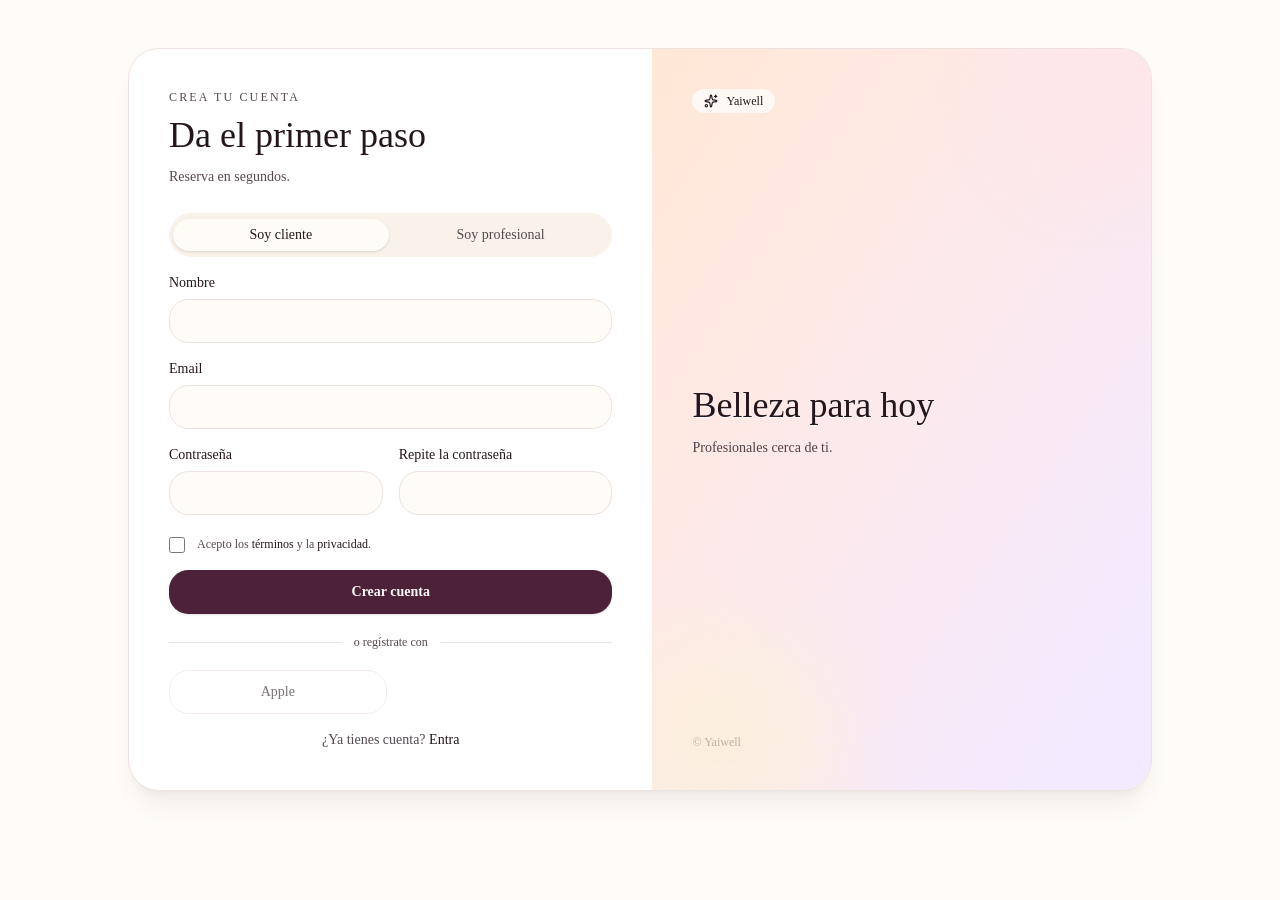
it: SignUpForm › muestra error si las contraseñas no coinciden
Type "Jorge" into the field labelled "Nombre".
click(391, 321); type("Jorge")  # box [169,299,612,343]
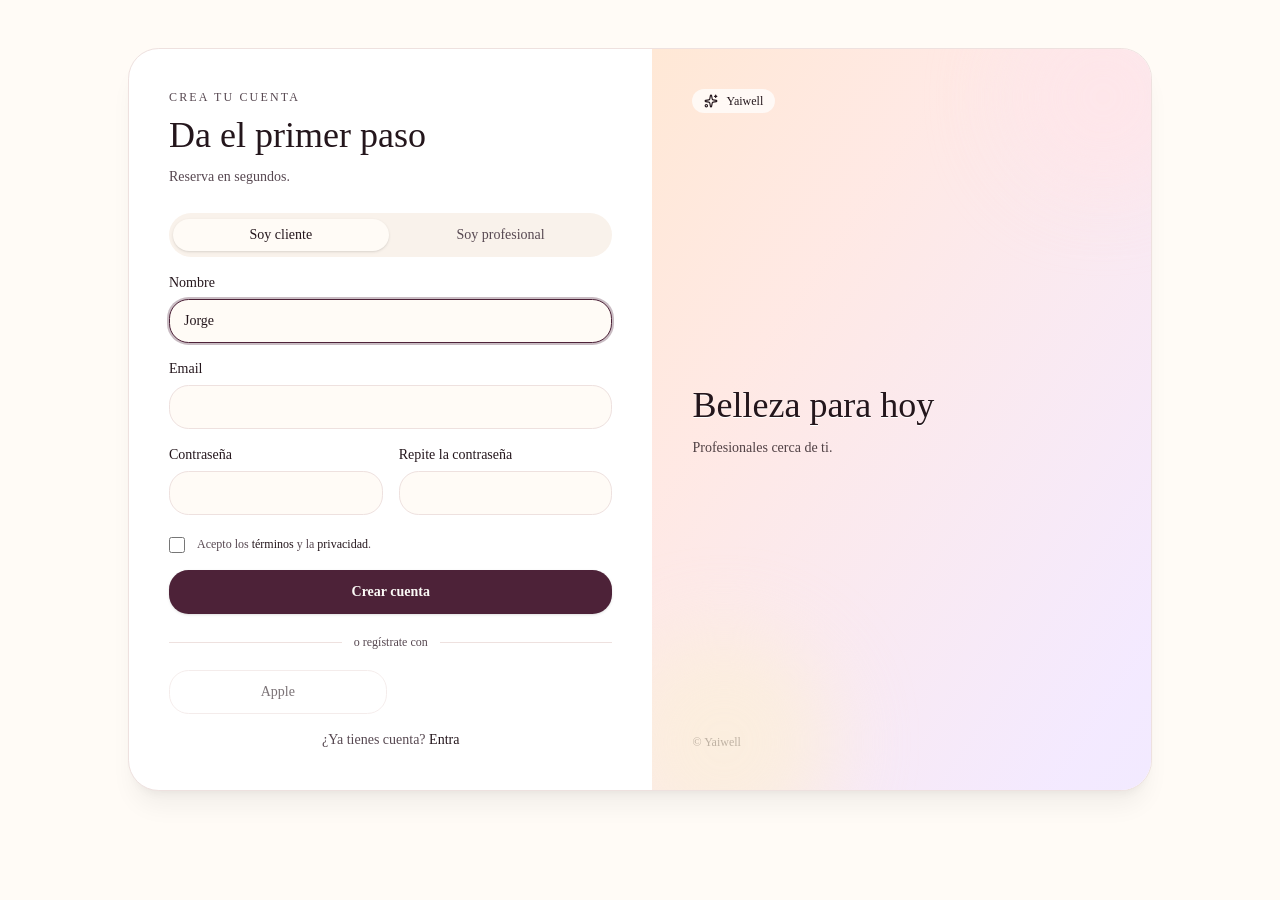
Type "jorge@yaiwell.com" into the field labelled "Email".
click(391, 407); type("jorge@yaiwell.com")  # box [169,385,612,429]
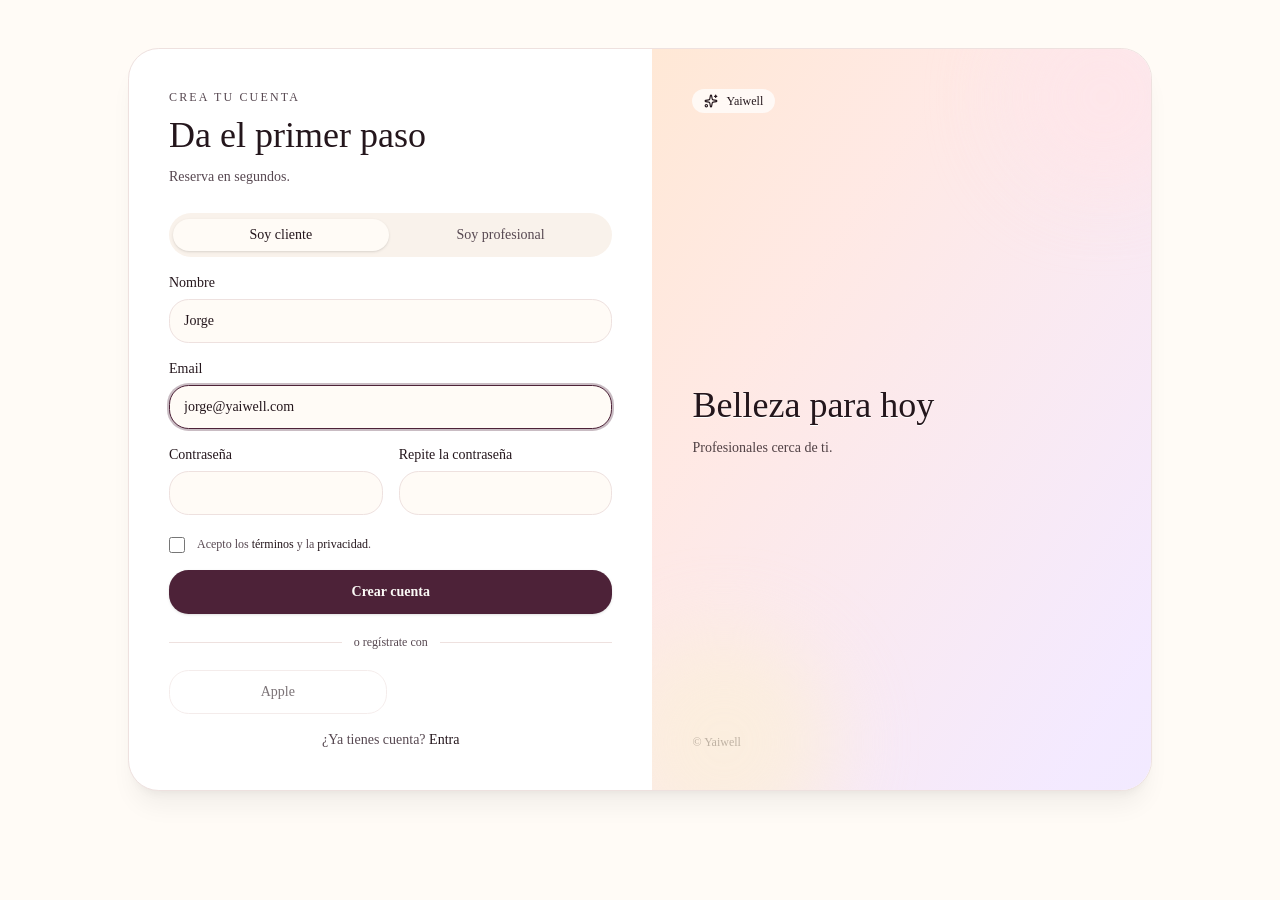
Type "unaclavefuerte" into the password field labelled "Contraseña".
click(276, 493); type("unaclavefuerte")  # box [169,471,383,515]
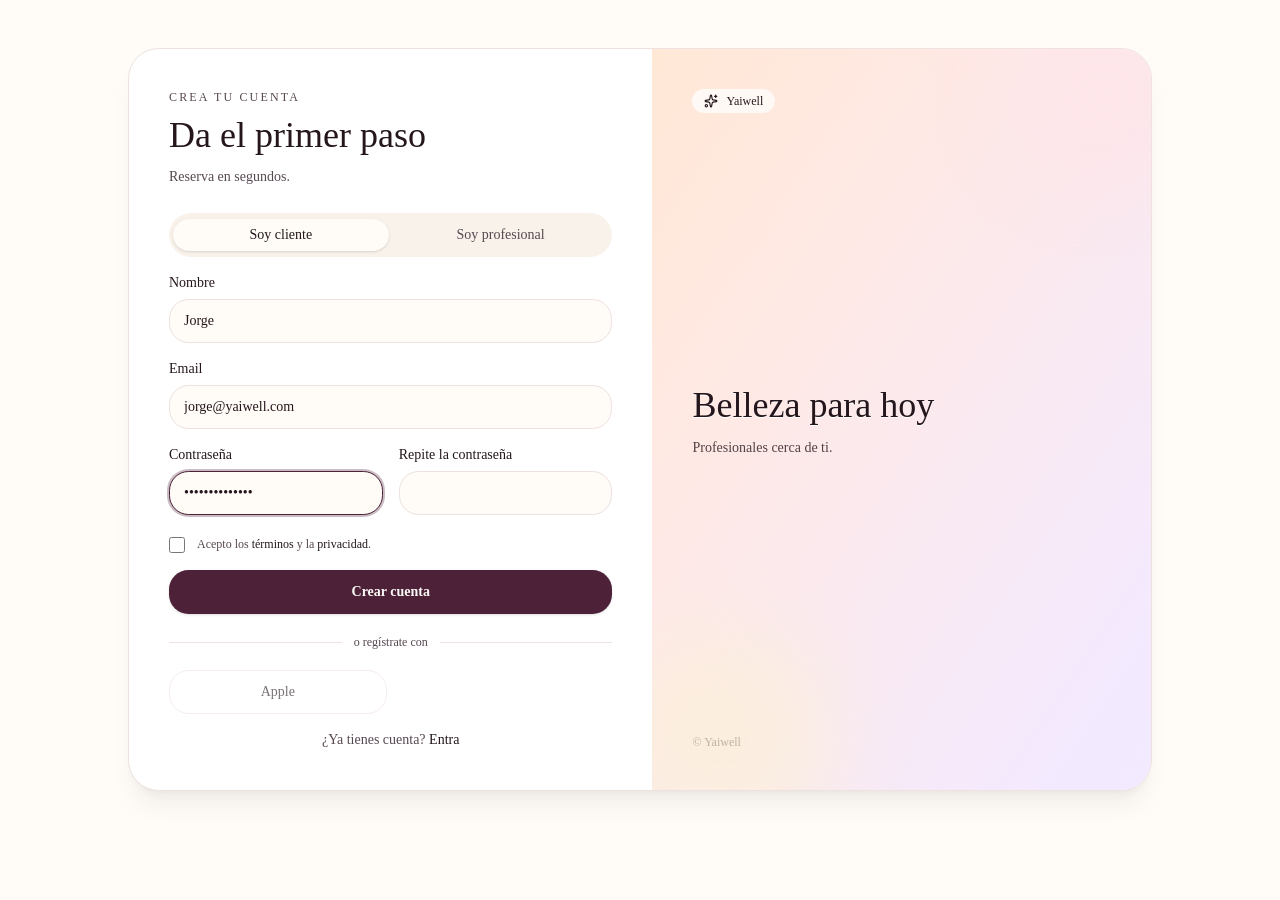
Type "otraclavefuerte" into the password field labelled "Repite la contraseña".
click(506, 493); type("otraclavefuerte")  # box [399,471,612,515]
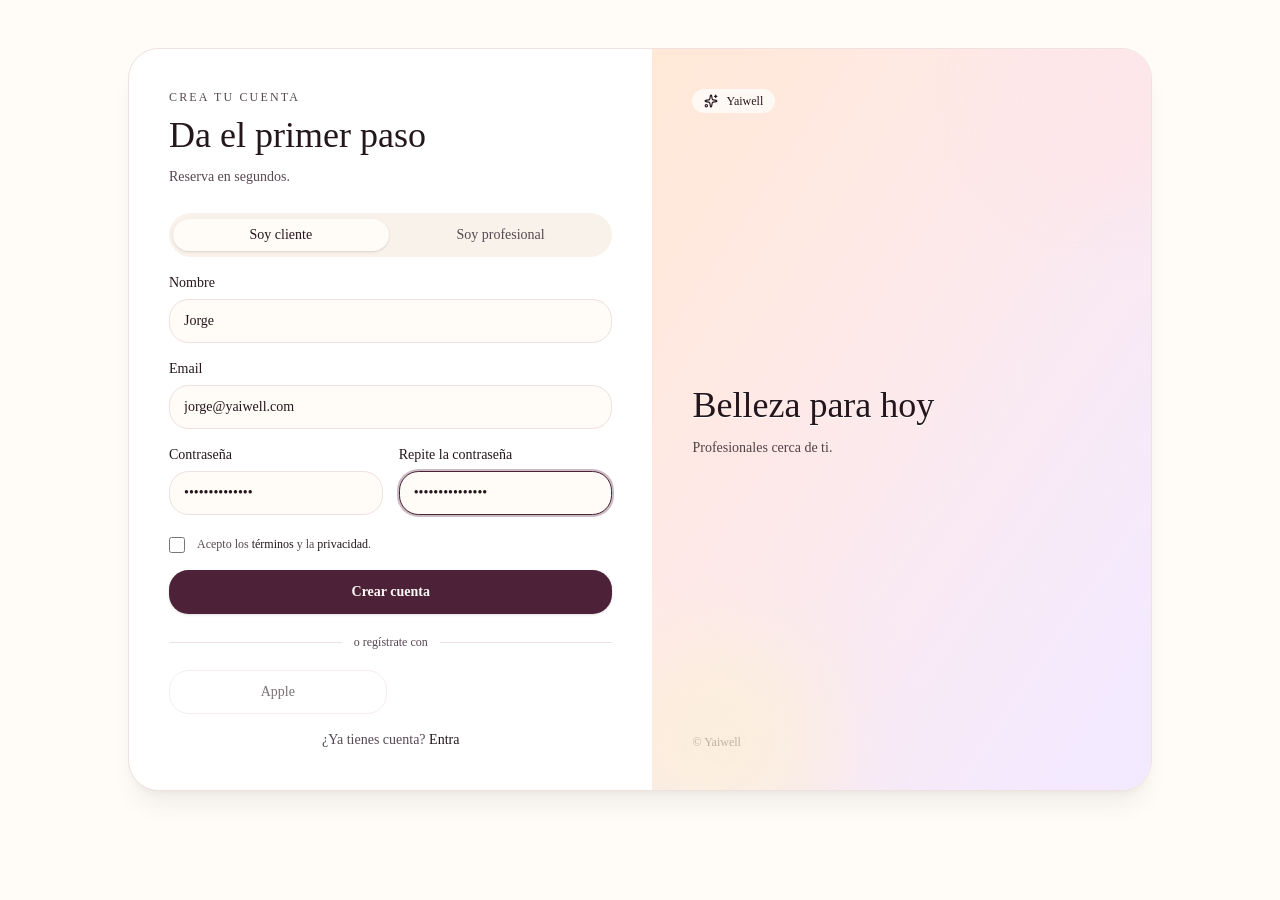
Click the checkbox.
click(177, 545)  # box [169,537,185,553]
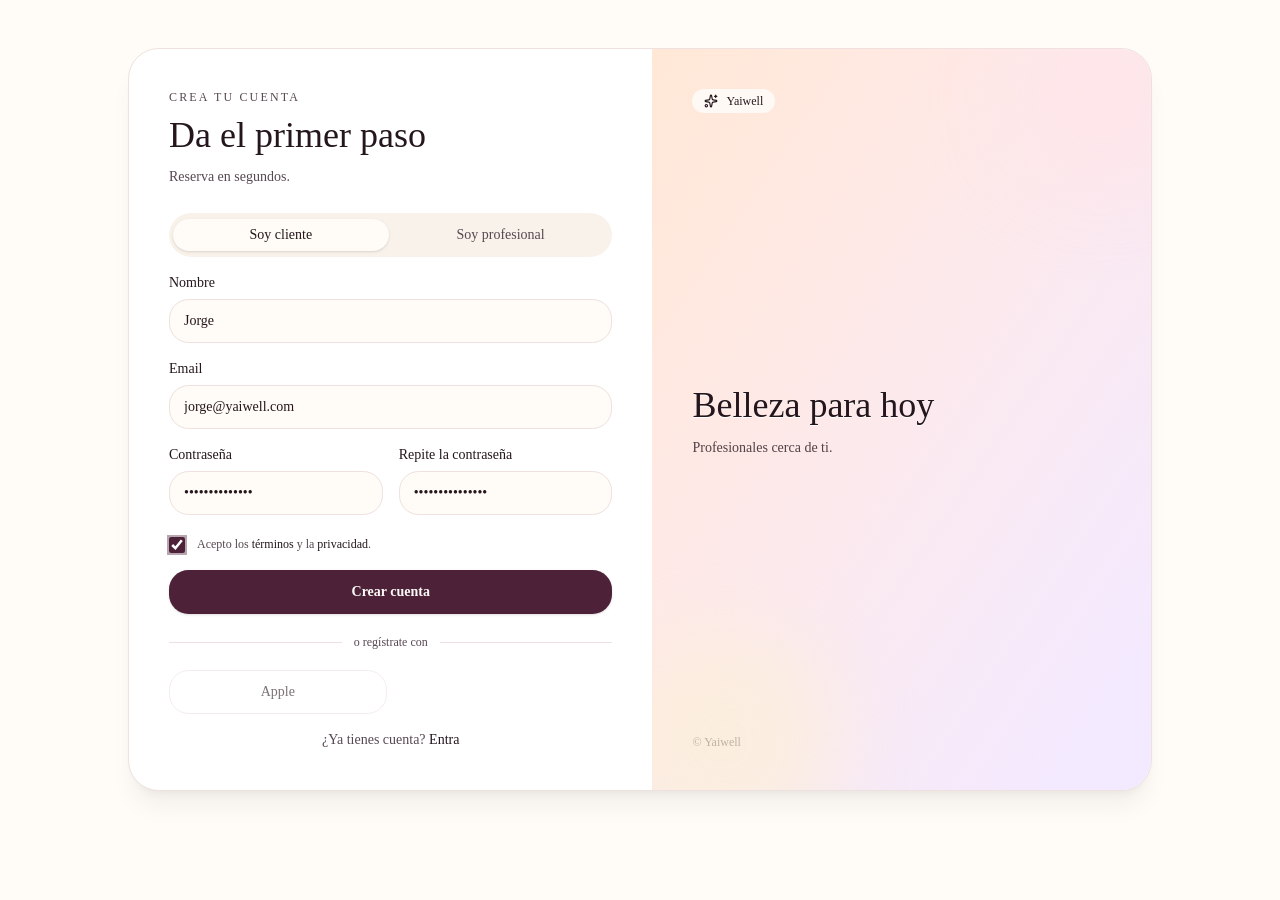
Click the button "Crear cuenta".
click(391, 592)  # box [169,570,612,614]
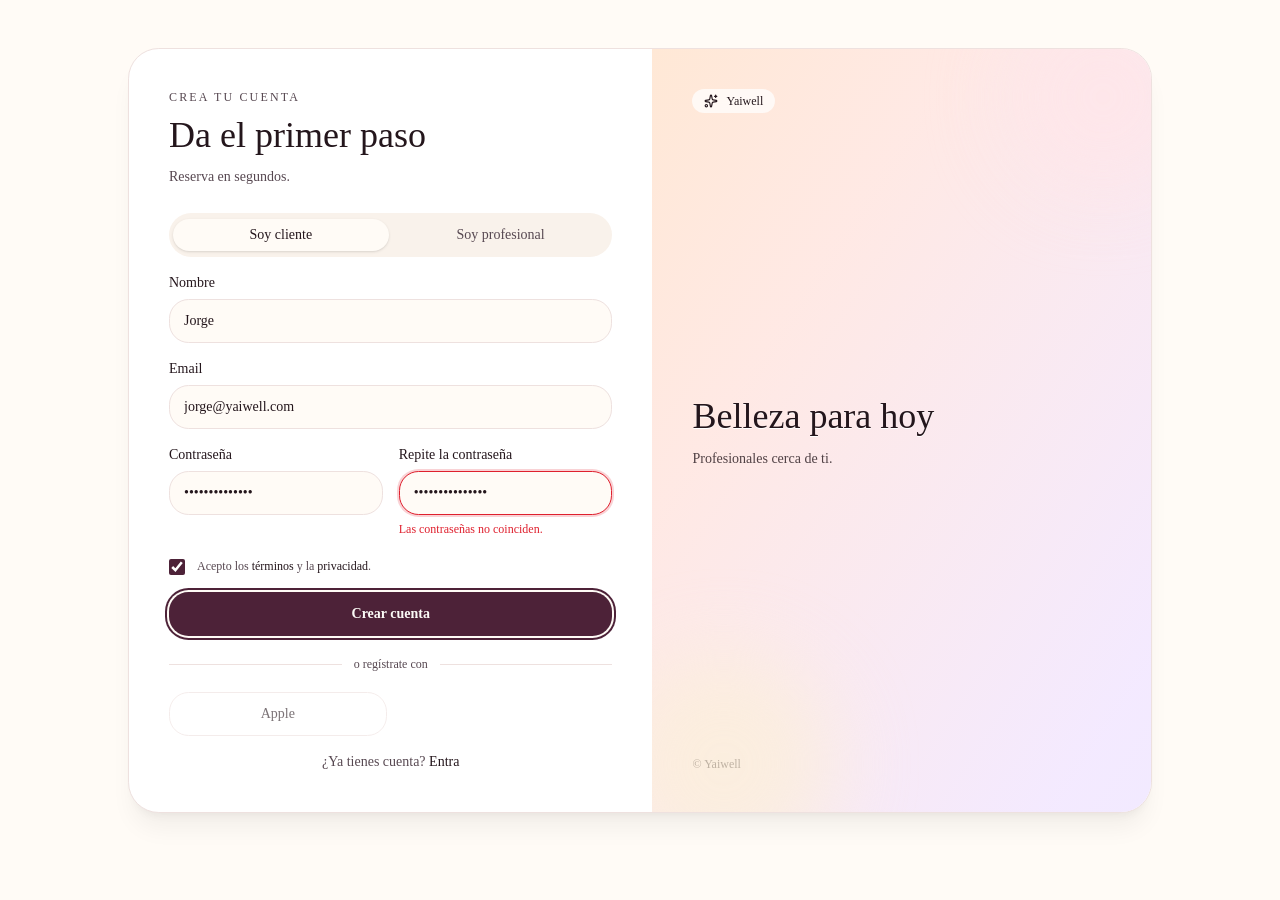
Now the text "Las contraseñas no coinciden." is shown, box [399,522,543,536]
